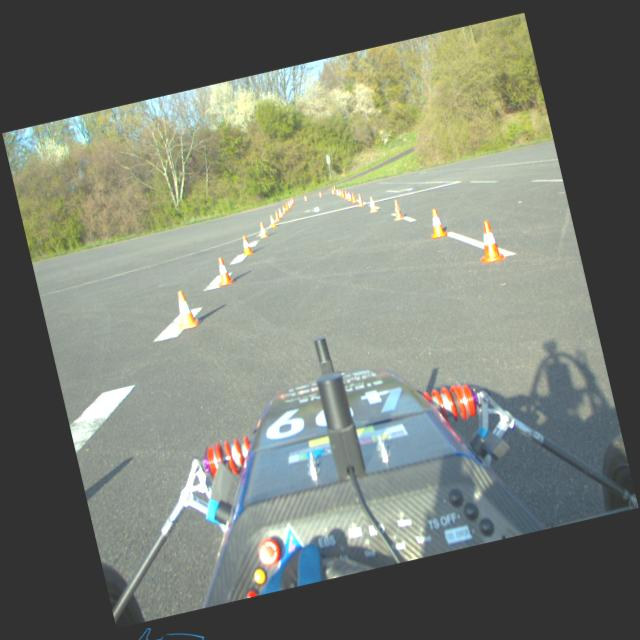orange_cone: (472, 218, 506, 264), (168, 288, 202, 330), (212, 255, 234, 286), (426, 208, 448, 238), (390, 199, 404, 221), (239, 234, 253, 255), (366, 196, 378, 213), (257, 220, 268, 238), (268, 214, 276, 228), (356, 194, 364, 206), (350, 192, 357, 203), (276, 208, 282, 218), (274, 210, 280, 220), (347, 191, 352, 201), (343, 190, 348, 200), (284, 202, 290, 210), (281, 204, 287, 212), (286, 200, 291, 208), (340, 190, 344, 198), (318, 190, 322, 197), (338, 189, 342, 196), (303, 194, 307, 200), (335, 188, 339, 194), (290, 198, 294, 204), (288, 199, 292, 205), (332, 189, 334, 194)
